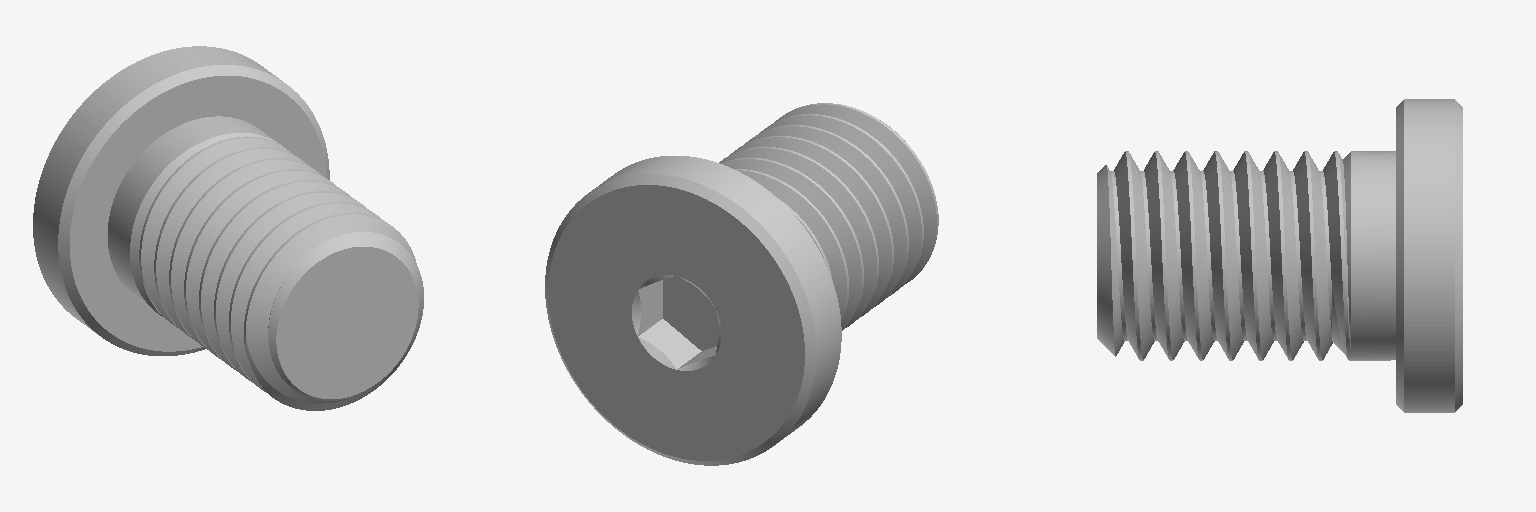
The picture shows the model from 3 angles: view 1: azimuth 30°, elevation 25°; view 2: azimuth 150°, elevation 25°; view 3: azimuth 270°, elevation 25°; orthographic projection.
Visible parts, largest first — view 1: Revolve1; view 2: Revolve1; view 3: Revolve1.
Boxes of the visible parts, <box> form: Revolve1: <box>33,46,423,410</box>; Revolve1: <box>545,103,938,465</box>; Revolve1: <box>1097,99,1462,412</box>.
Bounding box in the file's own units: 0.8267 × 0.8267 × 0.9646.